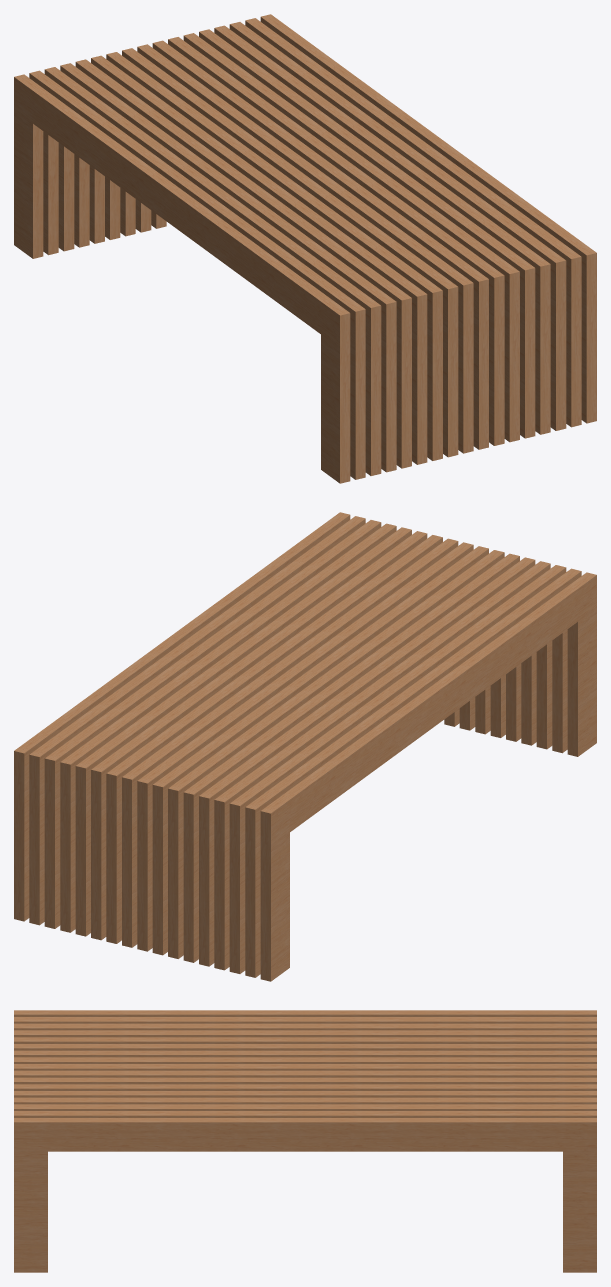
Rendered from bench1.glb.
3 renders of one model, top to bottom at view 1: azimuth 30°, elevation 25°; view 2: azimuth 150°, elevation 25°; view 3: azimuth 270°, elevation 25°, orthographic. The views are drawn at different scales.
Parts seen in each view (by area): view 1: Plane; view 2: Plane; view 3: Plane.
Part boxes in pixels (box(x1,y1,x2,y2)): Plane: box(14, 14, 596, 483); Plane: box(14, 512, 596, 981); Plane: box(14, 1010, 596, 1272).
Size of the model in its own units: 0.9095 by 0.569 by 2.
Materials: 1 (1 with a texture image).
